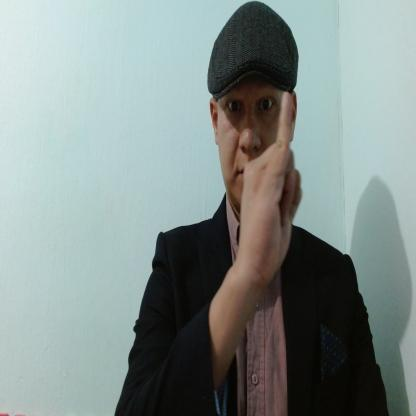I: (240, 94, 304, 280)
